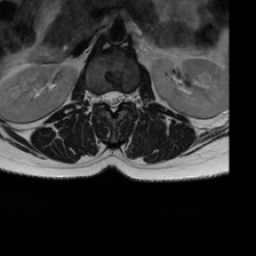CCS_normal: (108, 83, 116, 117)
LFS_normal: (123, 83, 132, 106)
LLS_normal: (116, 83, 123, 108)
RFS_normal: (93, 86, 101, 107)
RLS_normal: (101, 83, 108, 111)
